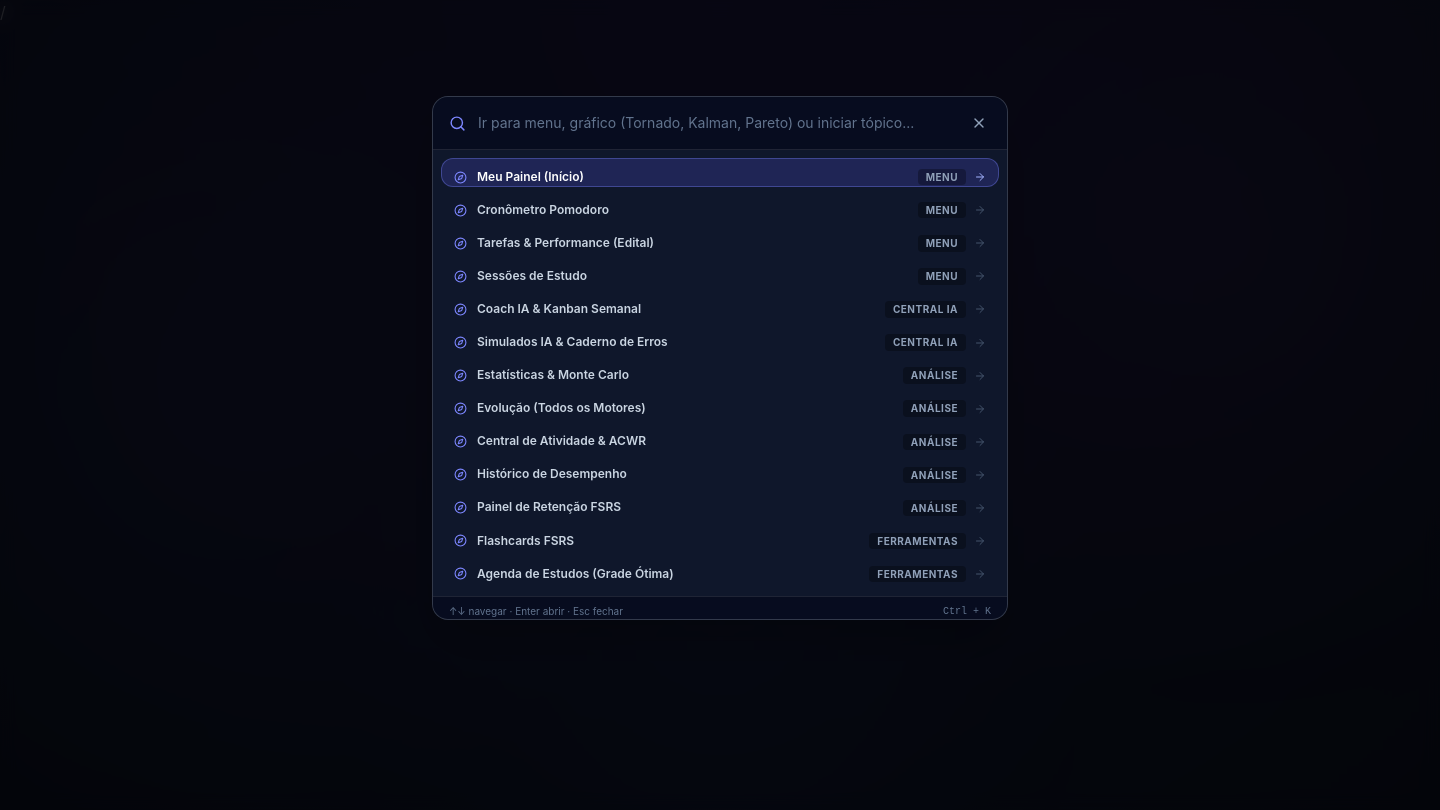
it: Cross-Menu Architectural & UX Improvements (2026) › 5. Navigation & Global Command Palette (Ctrl+K) › filters evolution engines and syllabus tasks in CommandPaletteModal
Later steps or results of the test are not shown.
Replace the text in the field with placeholder "Ir para menu" with "Teoria do Crime": [716, 123] box [478,113,955,133]
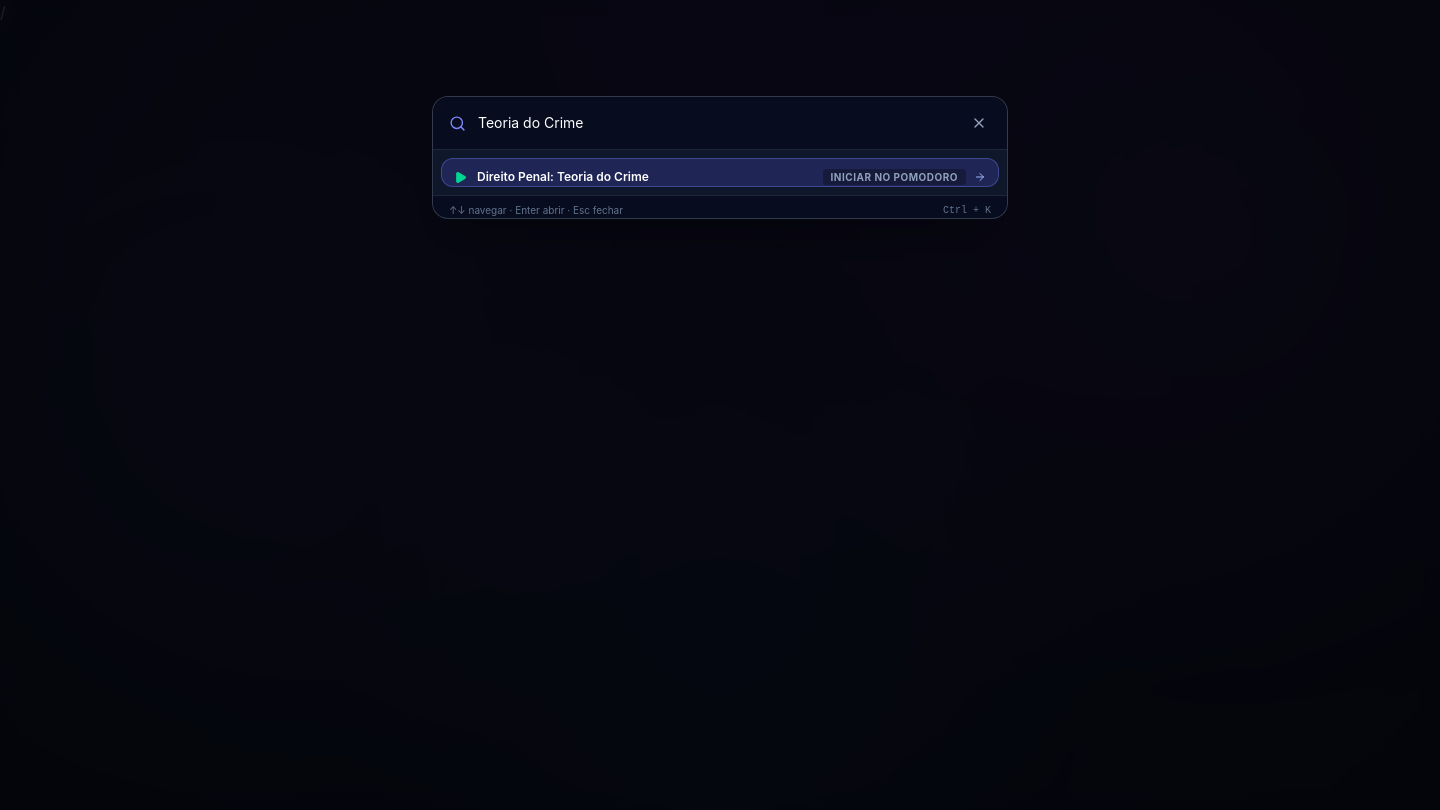
Now the button "Direito Penal: Teoria do Crime Iniciar no Pomodoro" is shown, box [441,158,999,187]
